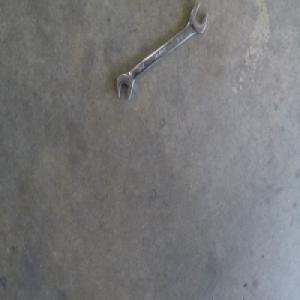Wrench: (116, 6, 207, 101)
